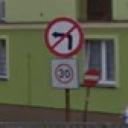NoVirarEsquerda: (45, 16, 84, 58)
